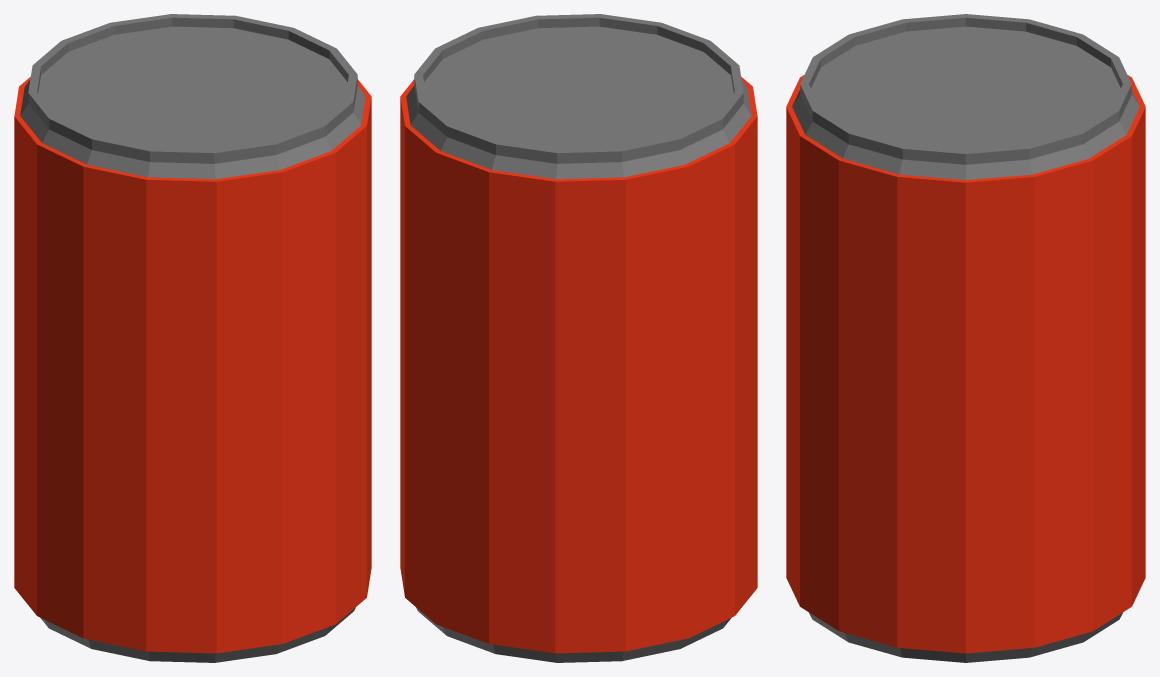
File: SodaCan.glb
3 renders of one model, left to right at view 1: azimuth 30°, elevation 25°; view 2: azimuth 150°, elevation 25°; view 3: azimuth 270°, elevation 25°, orthographic.
Parts seen in each view (by area): view 1: Soda Can; view 2: Soda Can; view 3: Soda Can.
Part boxes in pixels (x1,y1,x2,y2): Soda Can: (14,14,371,662); Soda Can: (400,14,757,662); Soda Can: (786,14,1145,662).
Size of the model in its own units: 0.9312 by 1.45 by 0.9312.
1 material, 1 textured.
